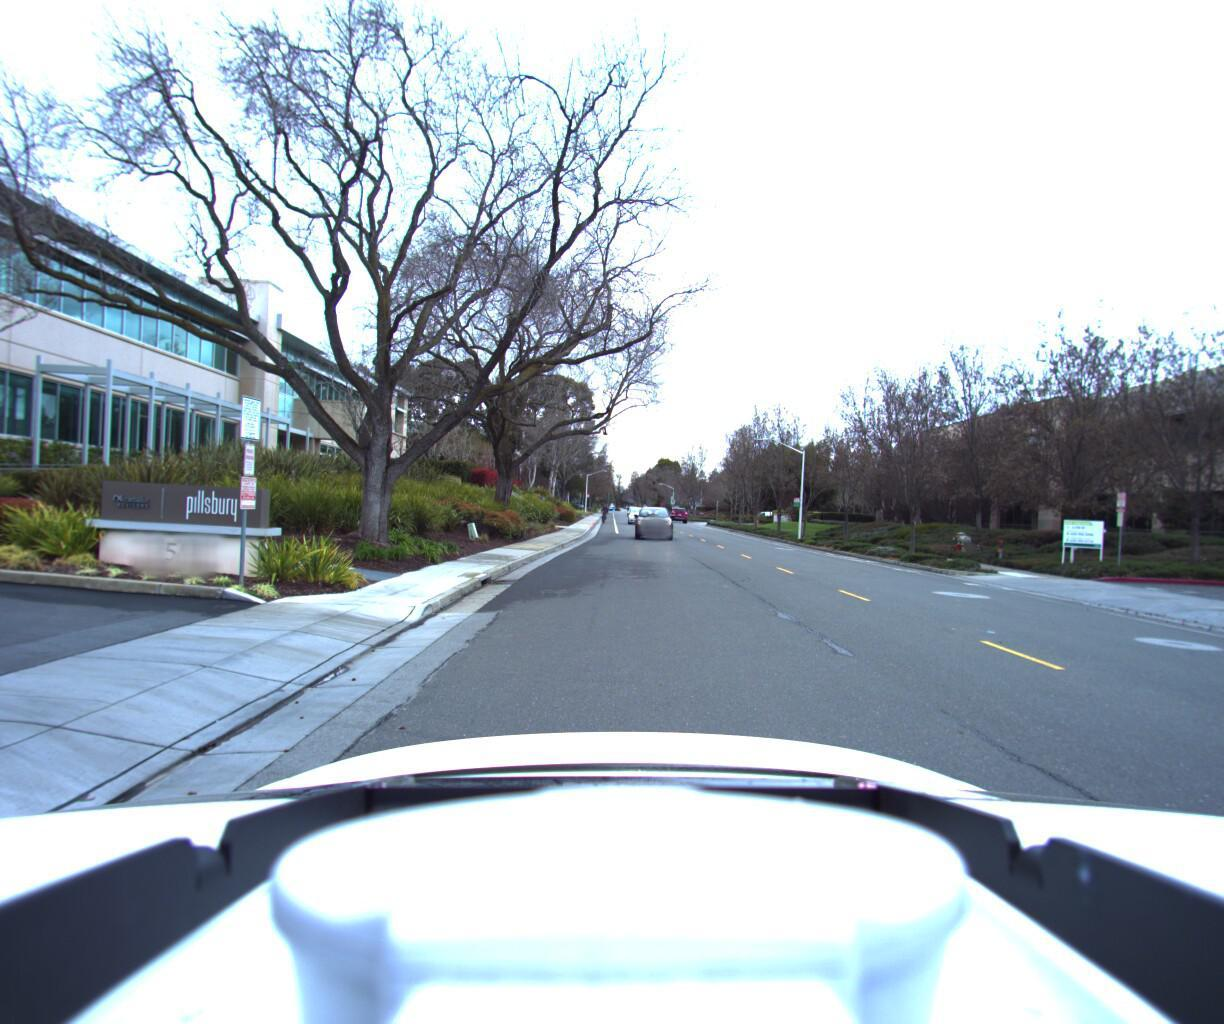bicycle: (599, 506, 611, 527)
car: (633, 513, 673, 548), (672, 508, 691, 526)
